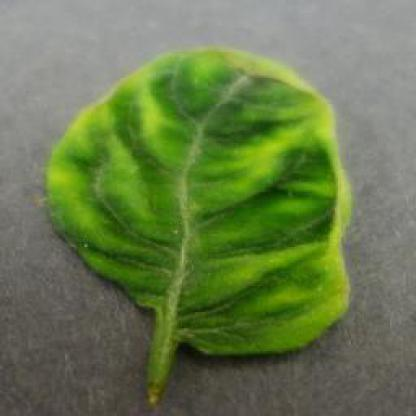good leaf: (40, 62, 366, 381)
